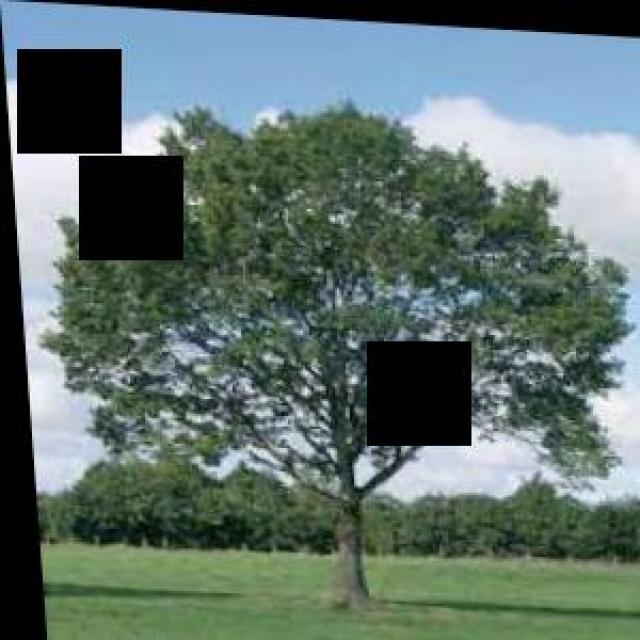tree: (5, 78, 639, 626)
